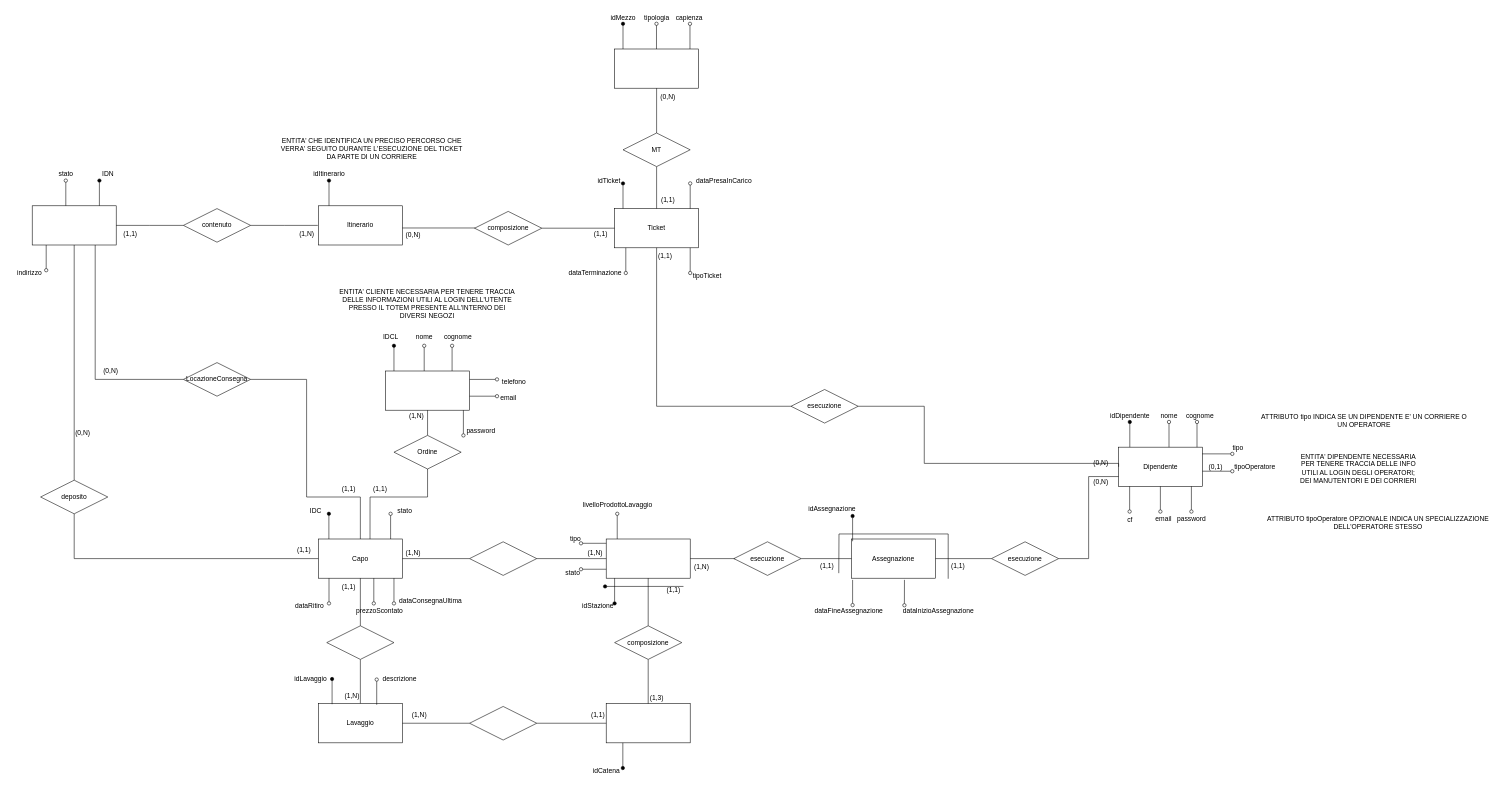
This 1505x788 diagram has some shape labels left out. The centre of each missing label's shape, as x and y in pixels:
CatenaLavorazione: point (648, 723)
CL: point (360, 642)
Cliente: point (427, 390)
lavorazione: point (503, 558)
LC: point (503, 723)
Mezzo: point (656, 68)
Negozio: point (74, 225)
Stazionelavoro: point (648, 558)
